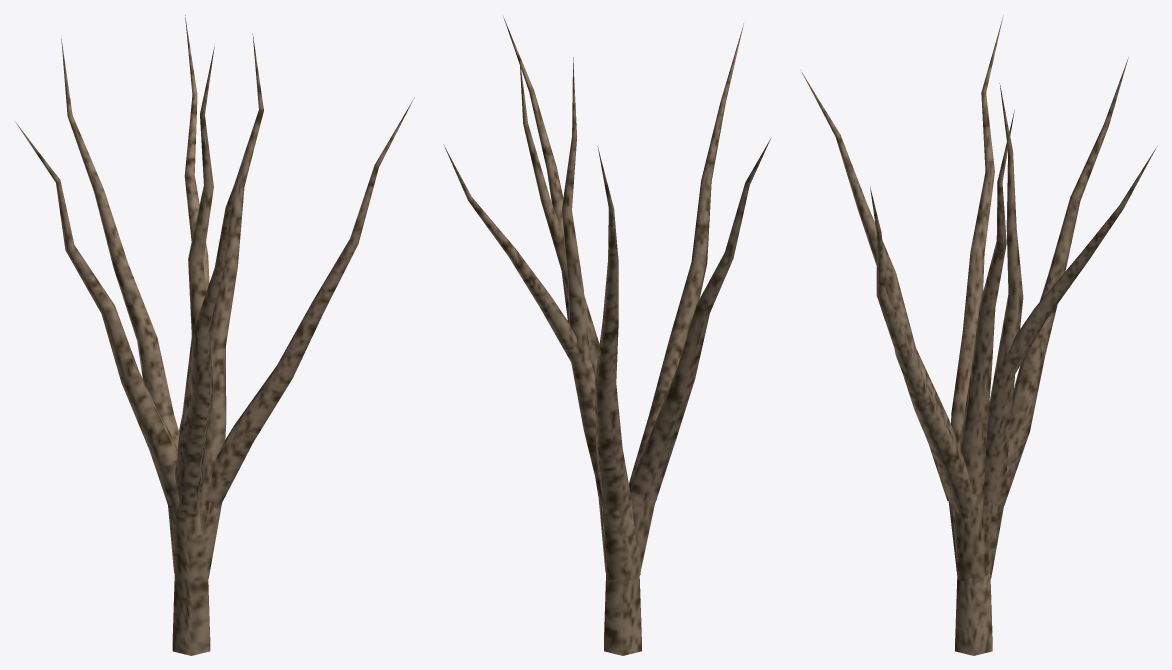
Rendered from tree.fbx.
The picture shows the model from 3 angles, left to right: view 1: azimuth 30°, elevation 25°; view 2: azimuth 150°, elevation 25°; view 3: azimuth 270°, elevation 25°; orthographic projection.
Visible parts, largest first — view 1: tree; view 2: tree; view 3: tree.
Boxes of the visible parts, bbox=[...] form: tree: bbox=[15, 15, 414, 655]; tree: bbox=[443, 16, 771, 655]; tree: bbox=[802, 15, 1156, 655].
Bounding box in the file's own units: 1448 × 1346 × 2423.
